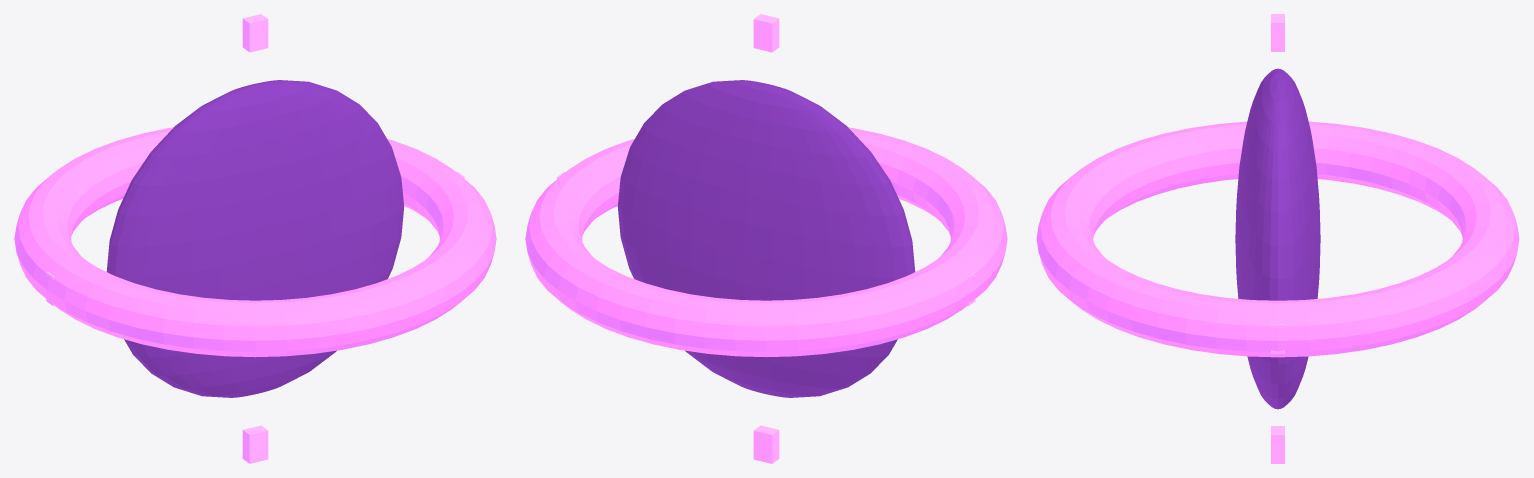
Rendered from dark_portal.glb.
3 views of the same model, side by side, from view 1: azimuth 30°, elevation 25°; view 2: azimuth 150°, elevation 25°; view 3: azimuth 270°, elevation 25° (orthographic).
Parts seen in each view (by area): view 1: Sphere, Torus, Cube.001, Cube.003; view 2: Sphere, Torus, Cube.001, Cube.003; view 3: Torus, Sphere, Cube.001, Cube.003.
Boxes of the visible parts, box(x1,y1,x2,y2) form: Sphere: box(106, 80, 404, 397); Torus: box(14, 127, 496, 357); Cube.001: box(242, 14, 268, 52); Cube.003: box(242, 425, 268, 463); Sphere: box(617, 80, 915, 397); Torus: box(525, 127, 1007, 357); Cube.001: box(753, 14, 779, 52); Cube.003: box(753, 425, 779, 463); Torus: box(1036, 121, 1519, 357); Sphere: box(1235, 68, 1320, 409); Cube.001: box(1271, 14, 1284, 51); Cube.003: box(1271, 426, 1284, 463).
Size of the model in its own units: 0.9927 by 1 by 0.9927.
